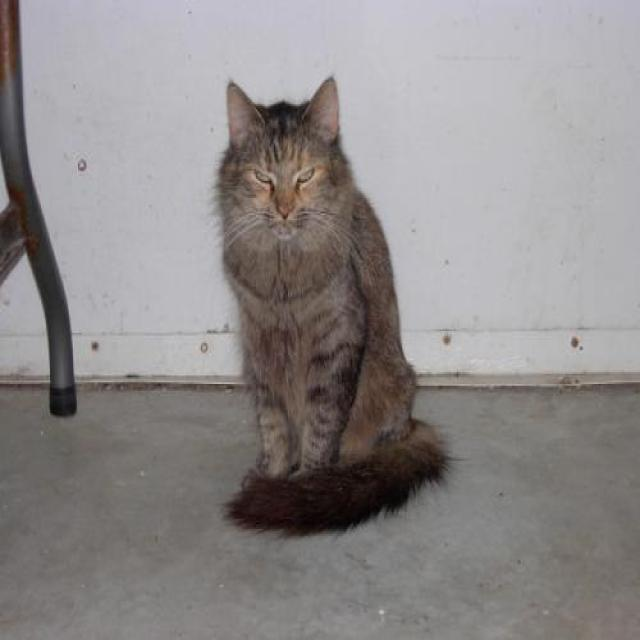cats: (214, 76, 452, 538)
